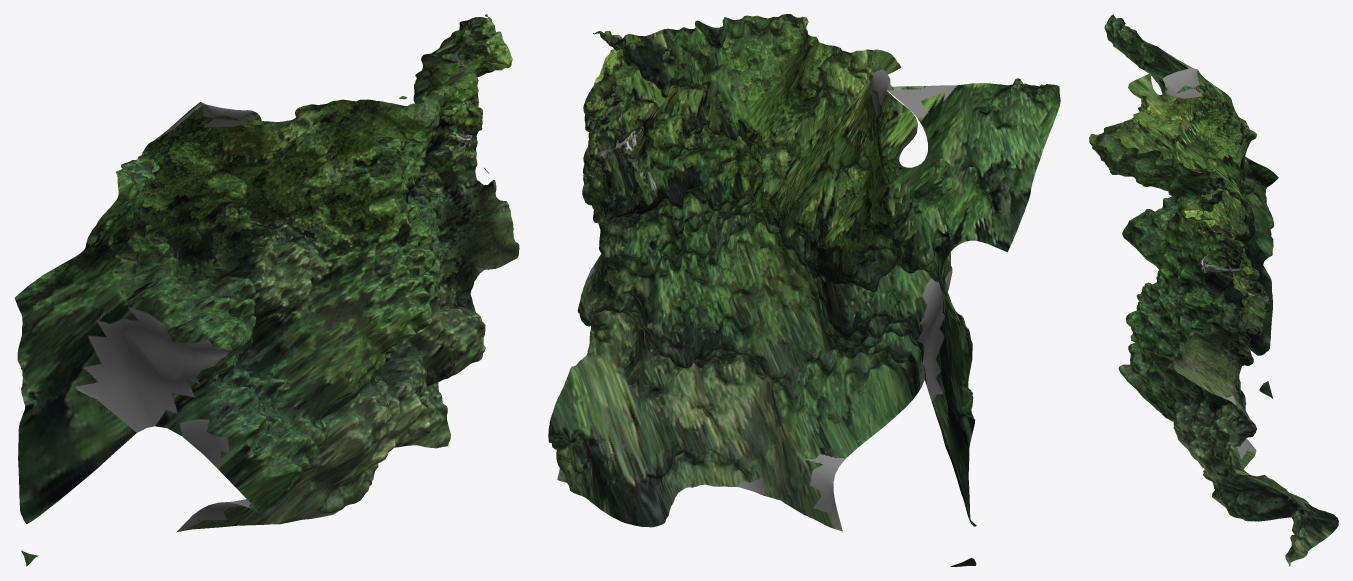
The model's file is Tile_+005_+004.fbx.
The picture shows the model from 3 angles, left to right: view 1: azimuth 30°, elevation 25°; view 2: azimuth 150°, elevation 25°; view 3: azimuth 270°, elevation 25°; orthographic projection. The views are drawn at different scales.
Parts seen in each view (by area): view 1: DefaultName; view 2: DefaultName; view 3: DefaultName.
Part boxes in pixels (x1,y1,x2,y2): DefaultName: (14,14,519,566); DefaultName: (548,14,1060,566); DefaultName: (1089,14,1338,566).
Bounding box in the file's own units: 22.54 × 22.54 × 13.53.
